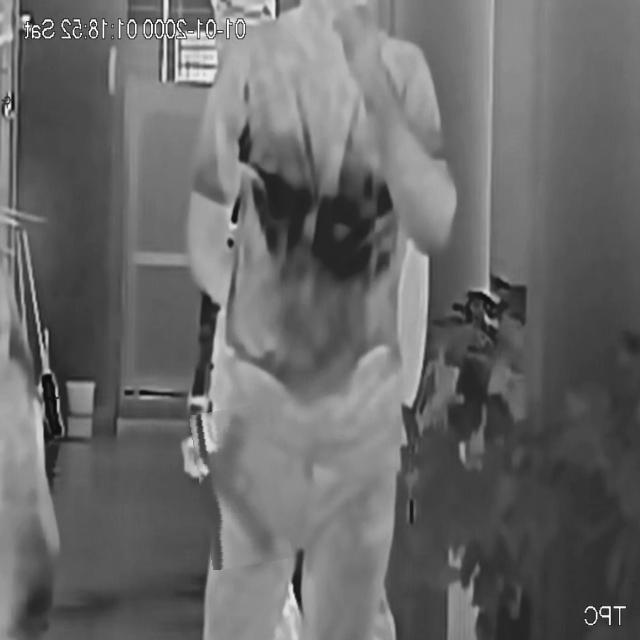Weapon: (195, 406, 286, 568)
